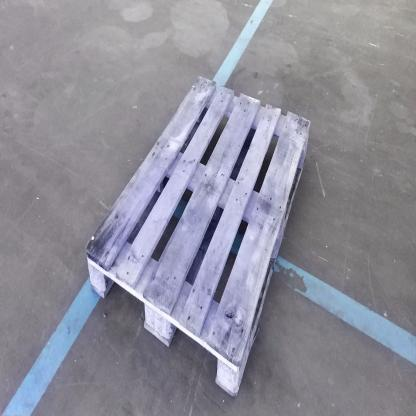BoxFace: (79, 71, 313, 404)
